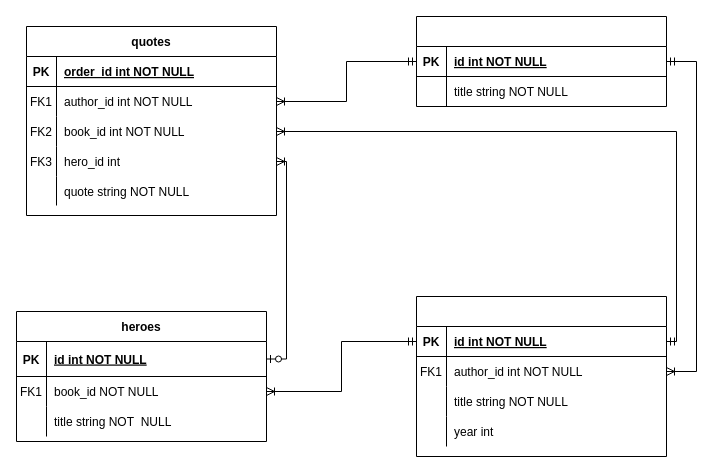
The diagram is 713 pixels wide and 473 high, and some of its shapes have lost their labels. The box of each missing label's shape, as (x1, y1, x2, y2) in pixels:
authors: (416, 16, 666, 106)
books: (416, 296, 666, 456)
